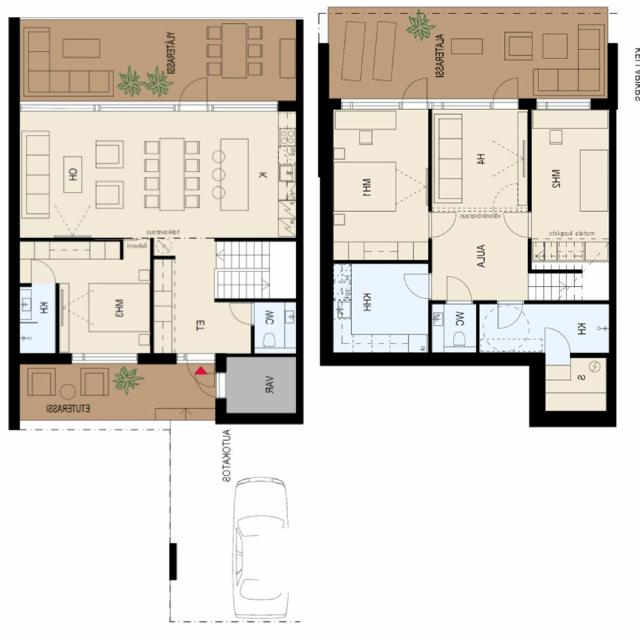door: (180, 74, 208, 112), (190, 373, 227, 398), (188, 353, 213, 390), (494, 74, 518, 110), (403, 74, 427, 110), (502, 212, 532, 238), (446, 275, 472, 304), (403, 274, 433, 299), (546, 328, 571, 357), (428, 213, 457, 237), (499, 300, 523, 328), (32, 260, 54, 287), (229, 304, 255, 324)
